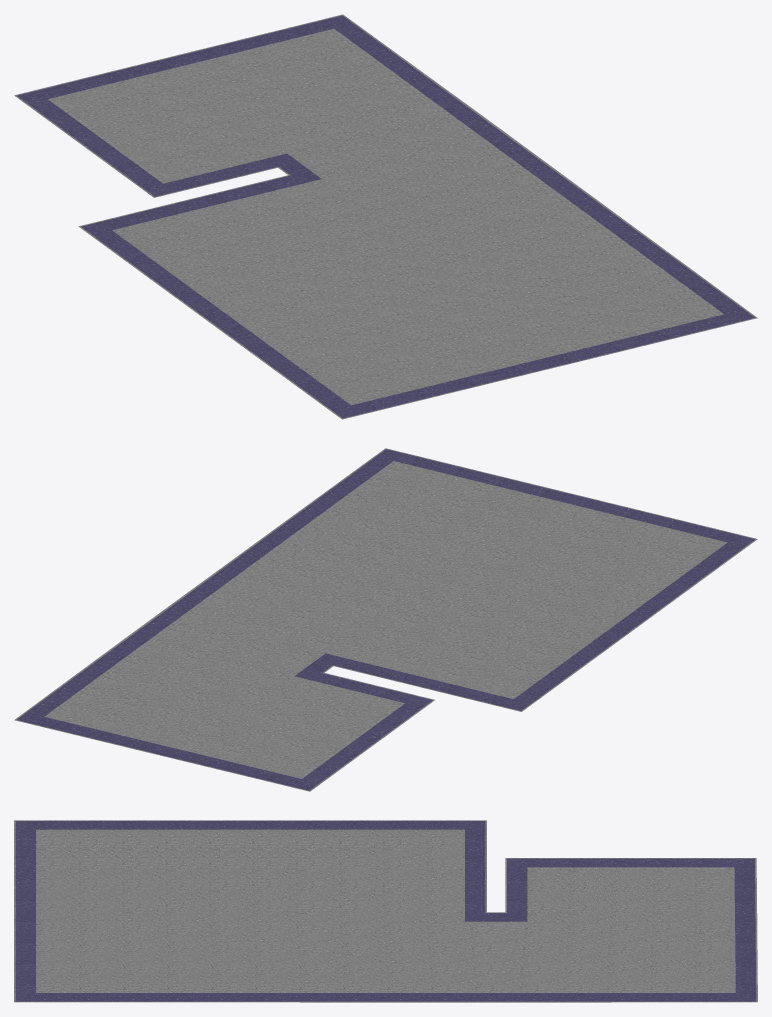
The model's file is FixedFloor.fbx.
3 renders of one model, top to bottom at view 1: azimuth 30°, elevation 25°; view 2: azimuth 150°, elevation 25°; view 3: azimuth 270°, elevation 25°, orthographic. The views are drawn at different scales.
Parts seen in each view (by area): view 1: Floor; view 2: Floor; view 3: Floor.
Part boxes in pixels (left/top/right/bottom): Floor: left=14, top=14, right=757, bottom=419; Floor: left=14, top=448, right=757, bottom=791; Floor: left=14, top=820, right=757, bottom=1002.
Size of the model in its own units: 423 by 4.47e-14 by 731.
